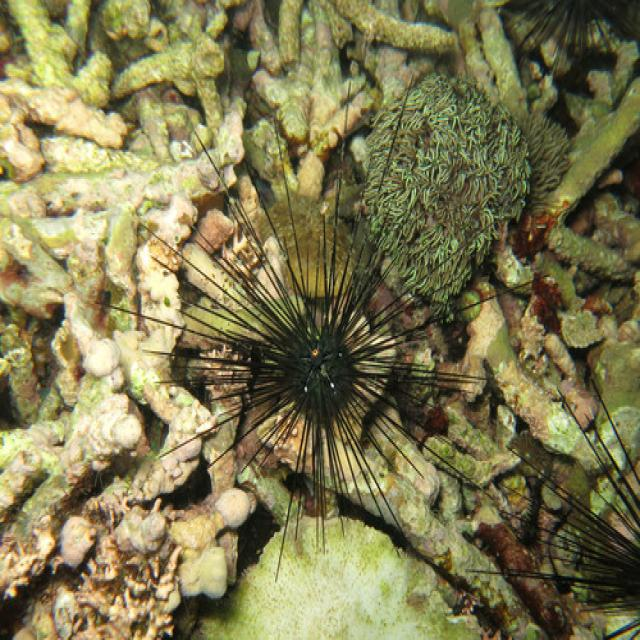Urchin: (95, 76, 531, 554)
